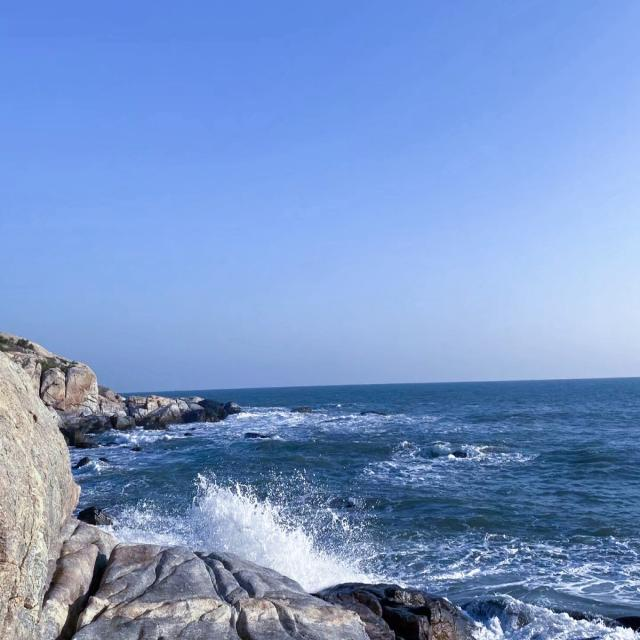reef: (130, 512, 416, 640), (93, 365, 248, 436)
